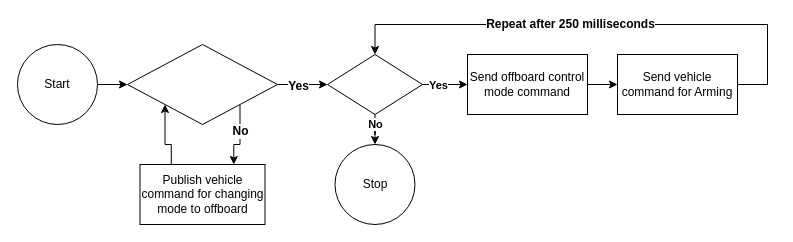
Some shapes in this 793 by 242 pixel diagram are drawn without their labels. Each missing label, with the centre of its shape:
Check if the control mode is offboard: pixel 202 84
Is turnon enabled?: pixel 374 84
